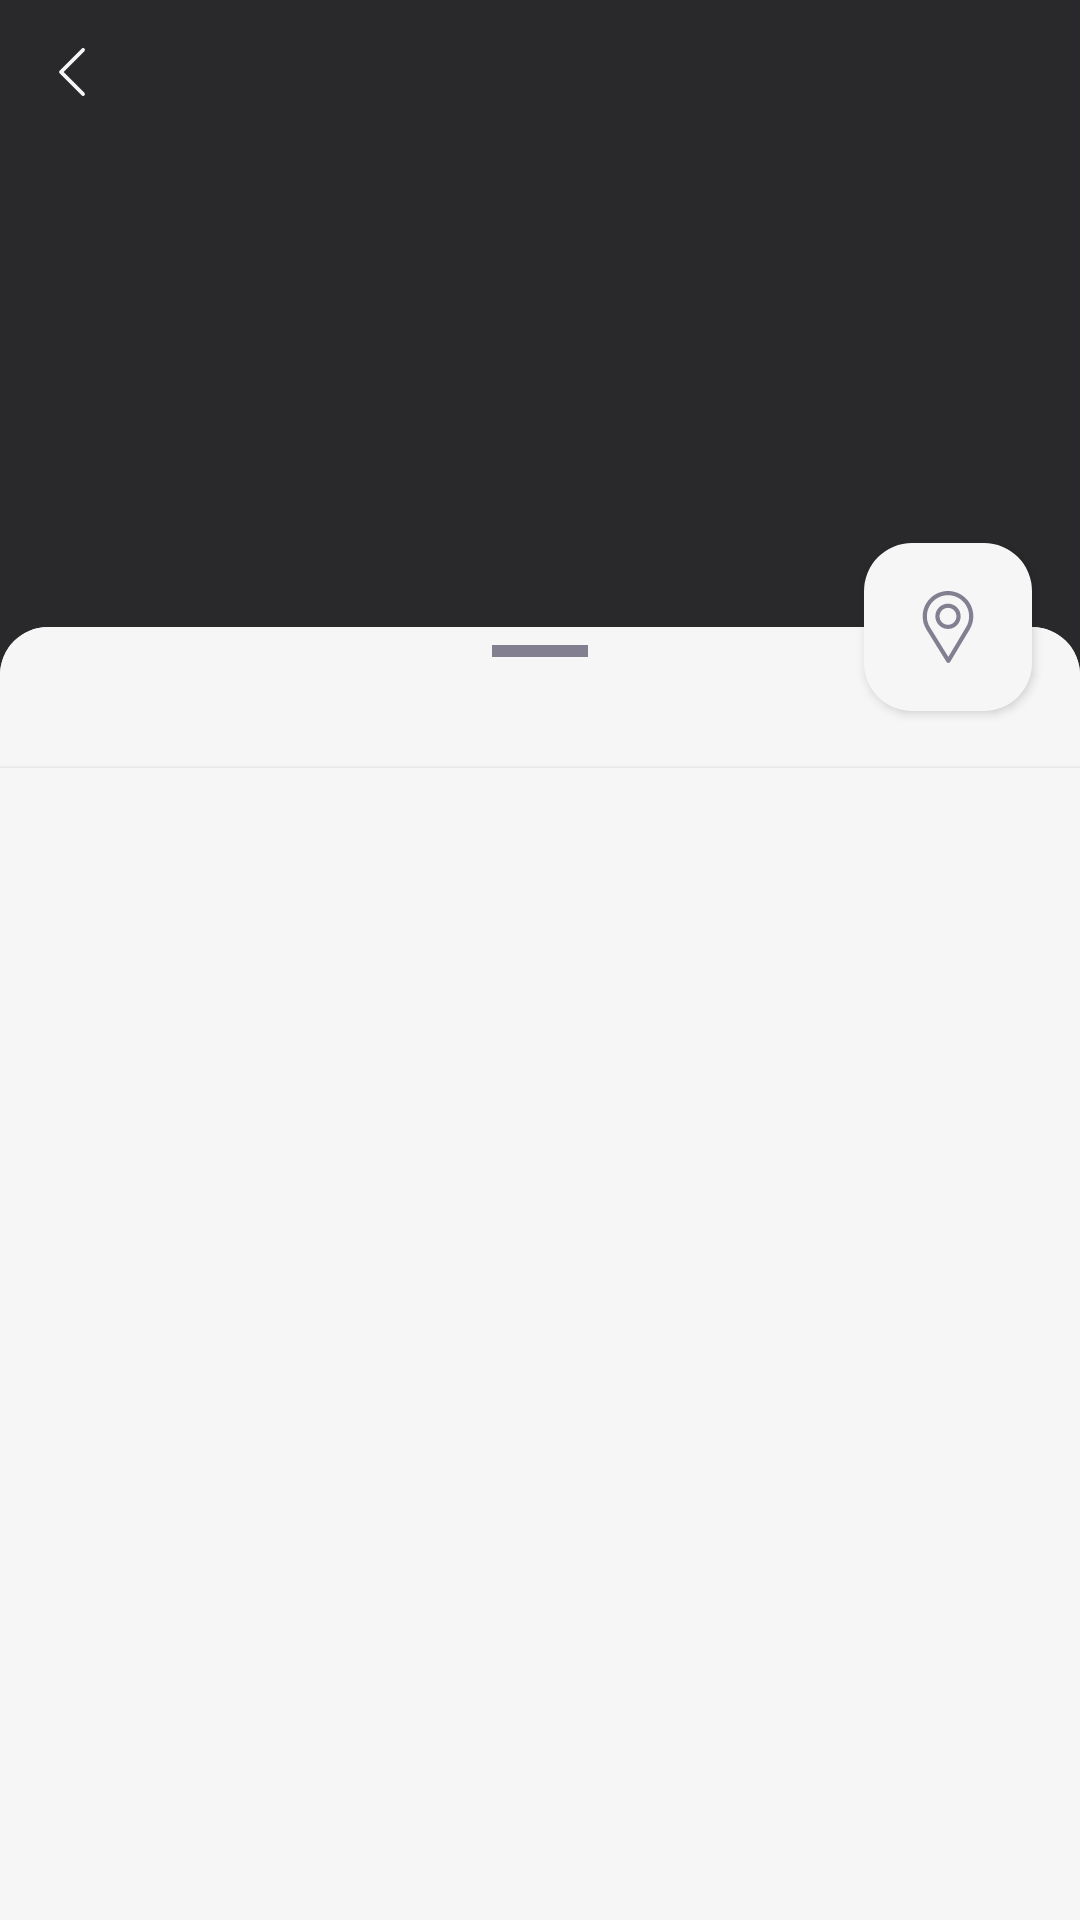

Point at icon controls on the screen. Image size 1080px x 1920px, points as (x,y).
back: (72,72)
map: (948,627)
